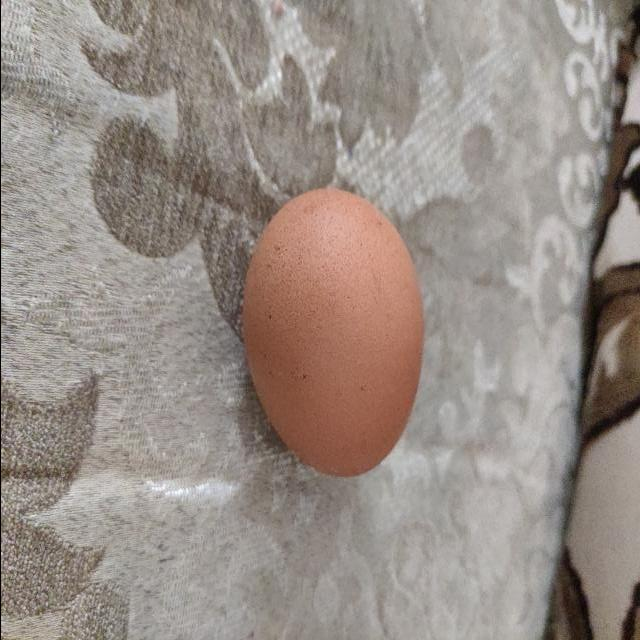egg: (237, 181, 428, 487)
